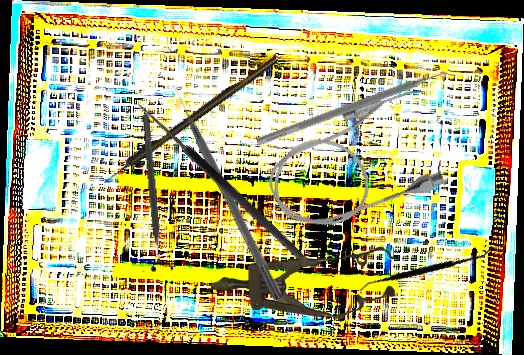Cannula: (252, 78, 458, 247)
Fixation Ring: (133, 112, 175, 274)
Hook Surgical: (125, 98, 309, 273), (100, 55, 280, 185)
Pusher: (168, 81, 286, 302)
Spatula Surgical: (255, 63, 458, 155), (359, 200, 492, 337)
Speculum: (209, 242, 397, 324)
